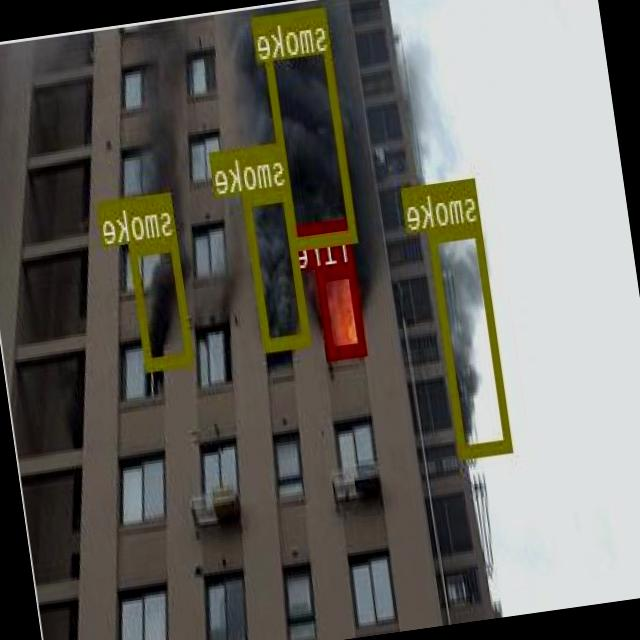fire: (318, 262, 368, 356)
smoke: (261, 5, 359, 247), (430, 222, 512, 454), (243, 184, 311, 350), (130, 236, 196, 368)
